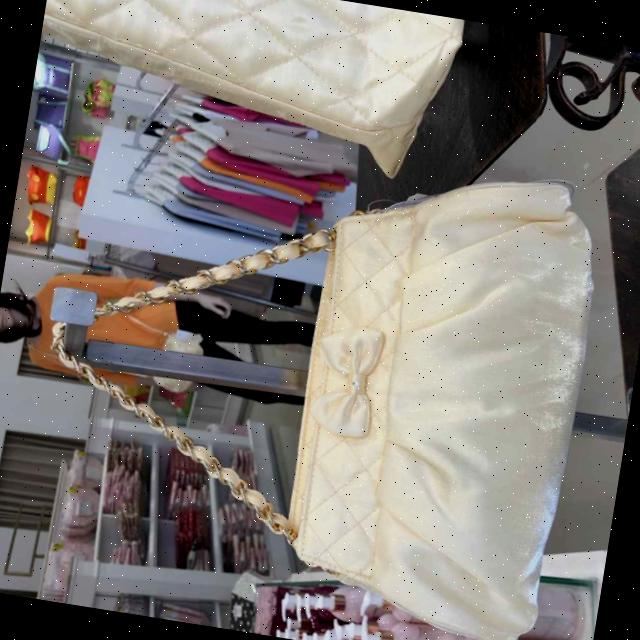Handbag: (228, 97, 626, 640)
